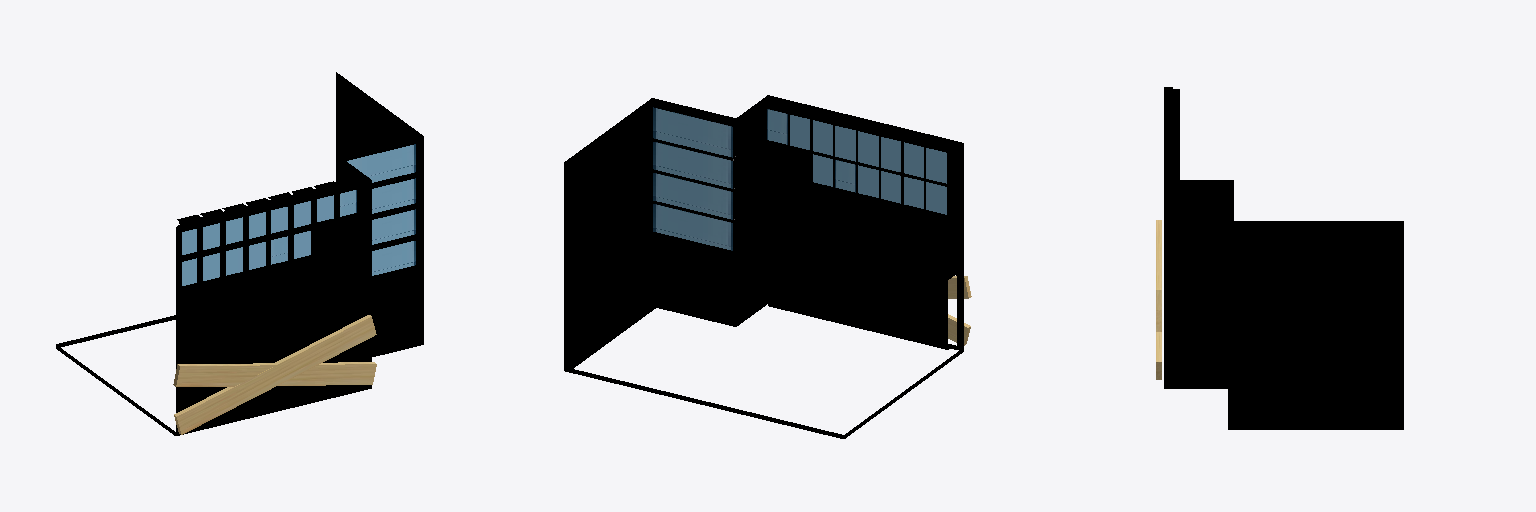
The picture shows the model from 3 angles: view 1: azimuth 30°, elevation 25°; view 2: azimuth 150°, elevation 25°; view 3: azimuth 270°, elevation 25°; orthographic projection.
Visible parts, largest first — view 1: pCube1, pCube4, pCube3; view 2: pCube1; view 3: pCube1, pCube3.
Boxes of the visible parts, x1,y1,x2,y2 form: pCube1: [56, 72, 423, 435]; pCube4: [174, 315, 376, 434]; pCube3: [173, 362, 376, 386]; pCube1: [564, 95, 963, 438]; pCube1: [1164, 87, 1403, 429]; pCube3: [1156, 220, 1161, 379].
Bounding box in the file's own units: 5.24 × 3.69 × 3.97.
Materials: 4 (2 with a texture image).